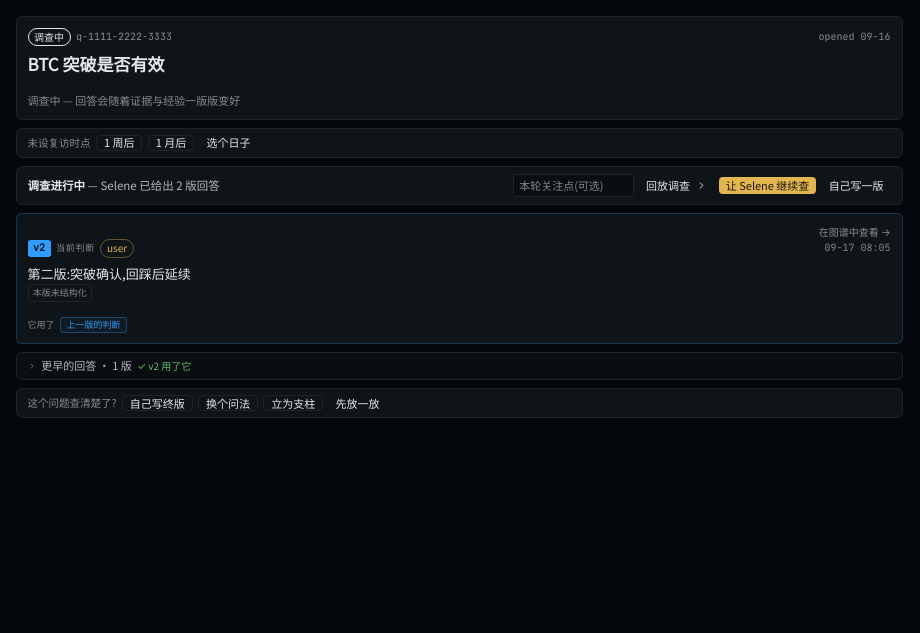
QuestionSurface v5 渐进披露 › J1: stub 空数组渲染「本次未取回历史」且无 candidate 文本
The image size is (920, 633).
Expected: the heading "BTC 突破是否有效" is shown, x1=28 y1=51 x2=164 y2=76
Click the button "自己写一版": click(856, 185) x1=822 y1=177 x2=891 y2=194
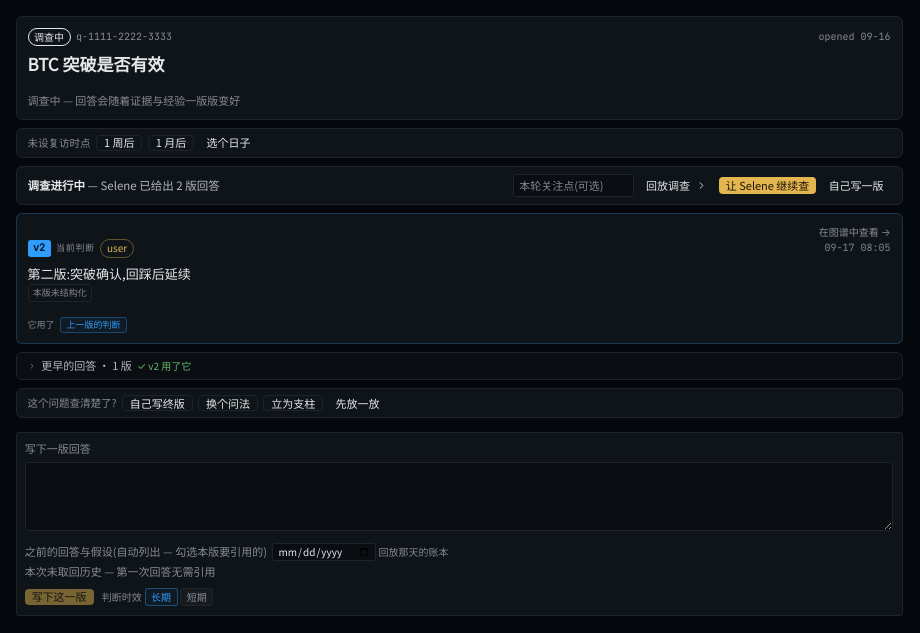
Expected: the text "本次未取回历史 — 第一次回答无需引用" is shown, x1=25 y1=563 x2=216 y2=579
Expected: the text "之前的回答与假设(自动列出 — 勾选本版要引用的)" is shown, x1=25 y1=544 x2=267 y2=560
